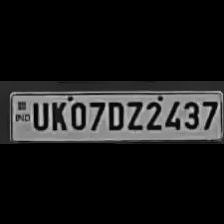0: (67, 98, 87, 130)
2: (143, 97, 161, 130)
3: (181, 97, 199, 129)
4: (162, 96, 180, 130)
7: (201, 97, 219, 129), (88, 97, 104, 130)
D: (104, 97, 124, 130)
K: (47, 98, 66, 132)
U: (29, 98, 48, 130)
Z: (124, 97, 142, 130)
